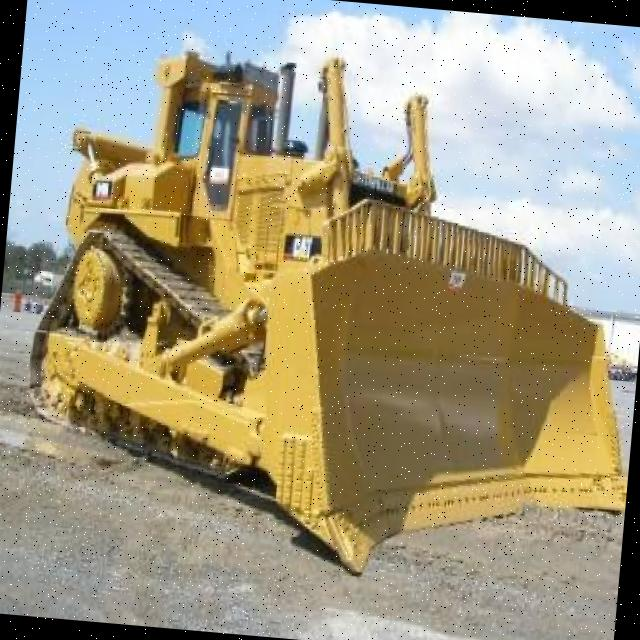Bulldozer: (1, 18, 640, 599)
